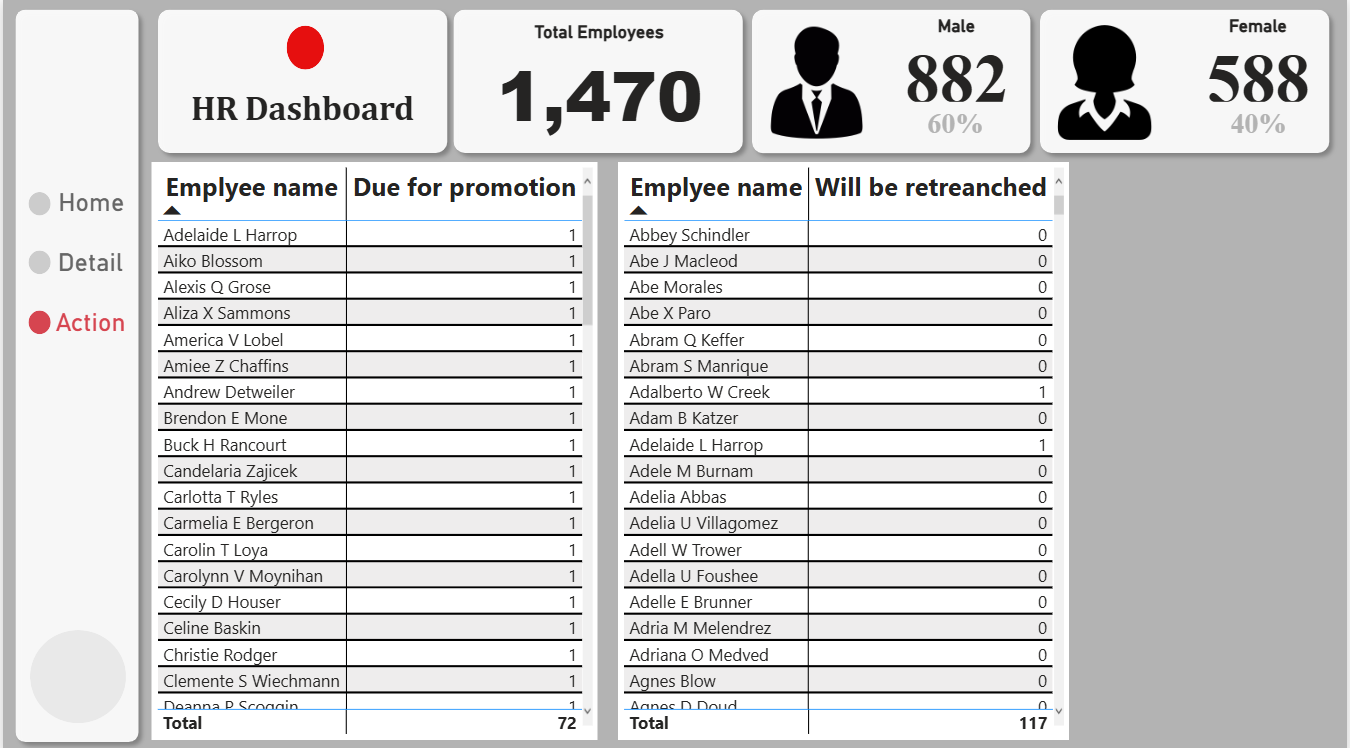

What the dashboard file says about the page in this screenshot:
{"tool":"powerbi","page":{"name":"Action","canvas":[1280,720],"ordinal":2},"visuals":[{"type":"shape","box":[2.8,0,135.3,715.8],"z":0},{"type":"shape","box":[979.3,0,293.6,154.6],"z":1000},{"type":"shape","box":[139,0,293.6,154.6],"z":2000},{"type":"shape","box":[420.1,0,293.6,154.6],"z":3000},{"type":"shape","box":[704.5,0,283.2,155],"z":4000},{"type":"textbox","box":[157.7,78.1,256.1,53.1],"z":5000},{"type":"shape","box":[270.2,25,35.9,42.2],"z":6000},{"type":"card","title":"Total Employees","fields":{"Values":["All Measures.Total Emp"]},"box":[449.8,20.3,235.8,114],"z":7000},{"type":"card","title":"Male","fields":{"Values":["All Measures.Male"]},"box":[846.5,14.1,121.8,87.5],"z":8000},{"type":"card","title":"Male","fields":{"Values":["All Measures.% Male"]},"box":[860.6,78.1,93.7,76.5],"z":9000},{"type":"card","title":"Female","fields":{"Values":["All Measures.Female"]},"box":[1133.9,14.1,121.8,87.5],"z":10000},{"type":"card","title":"Male","fields":{"Values":["All Measures.% Female"]},"box":[1147.9,78.1,93.7,76.5],"z":11000},{"type":"image","box":[713.8,20.3,121.8,117.1],"z":12000},{"type":"image","box":[987.7,18.3,124,119.8],"z":13000},{"type":"tableEx","fields":{"Values":["HR Analytics Data (2).Emplyee name","All Measures.Due for promotion"]},"box":[142.1,154.6,424.8,549.8],"z":14000},{"type":"tableEx","fields":{"Values":["HR Analytics Data (2).Emplyee name","All Measures.Will be retreanched"]},"box":[585.7,154.6,429.5,549.8],"z":15000},{"type":"shape","box":[24,238.1,21.1,22.5],"z":16000},{"type":"actionButton","title":"Detail","box":[12.7,235.3,140.9,57.8],"z":17000},{"type":"shape","box":[24,295.9,21.1,22.5],"z":18000},{"type":"actionButton","title":"Action","box":[12.7,293.1,140.9,66.2],"z":19000},{"type":"shape","box":[23.9,183.1,21.1,22.4],"z":20000},{"type":"actionButton","title":"Home","box":[14.6,179.1,139.8,56.7],"z":21000},{"type":"shape","box":[25.4,600.2,91.6,88.8],"z":22001}]}

Visuals, with their boxes on the page's 1280x720 design canvas (x1, y1, x2, y2). These are canvas units, not pixel positions in the 1350x748 screenshot, which may show the page scaled, cropped or inside an application window:
shape: region(3, 0, 138, 716)
shape: region(979, 0, 1273, 155)
shape: region(139, 0, 433, 155)
shape: region(420, 0, 714, 155)
shape: region(704, 0, 988, 155)
textbox: region(158, 78, 414, 131)
shape: region(270, 25, 306, 67)
"Total Employees" card: region(450, 20, 686, 134)
"Male" card: region(846, 14, 968, 102)
"Male" card: region(861, 78, 954, 155)
"Female" card: region(1134, 14, 1256, 102)
"Male" card: region(1148, 78, 1242, 155)
image: region(714, 20, 836, 137)
image: region(988, 18, 1112, 138)
tableEx - HR Analytics Data (2).Emplyee name x All Measures.Due for promotion: region(142, 155, 567, 704)
tableEx - HR Analytics Data (2).Emplyee name x All Measures.Will be retreanched: region(586, 155, 1015, 704)
shape: region(24, 238, 45, 261)
"Detail" actionButton: region(13, 235, 154, 293)
shape: region(24, 296, 45, 318)
"Action" actionButton: region(13, 293, 154, 359)
shape: region(24, 183, 45, 206)
"Home" actionButton: region(15, 179, 154, 236)
shape: region(25, 600, 117, 689)
